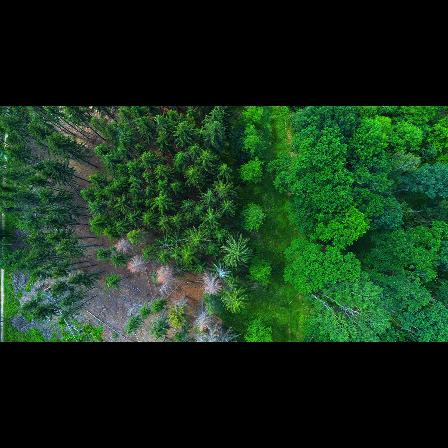Dead: (198, 274, 220, 298), (154, 263, 179, 283), (126, 256, 150, 274), (191, 310, 209, 331), (215, 265, 231, 282), (114, 240, 133, 251)
